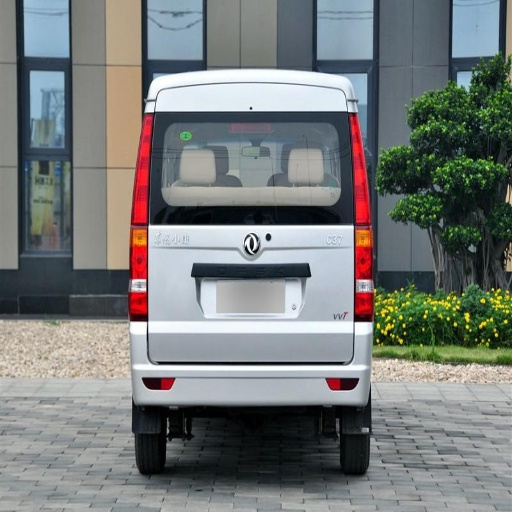back_bumper: (132, 341, 366, 405)
tailgate: (163, 187, 350, 318)
trunk: (152, 225, 354, 364), (161, 110, 217, 149)
